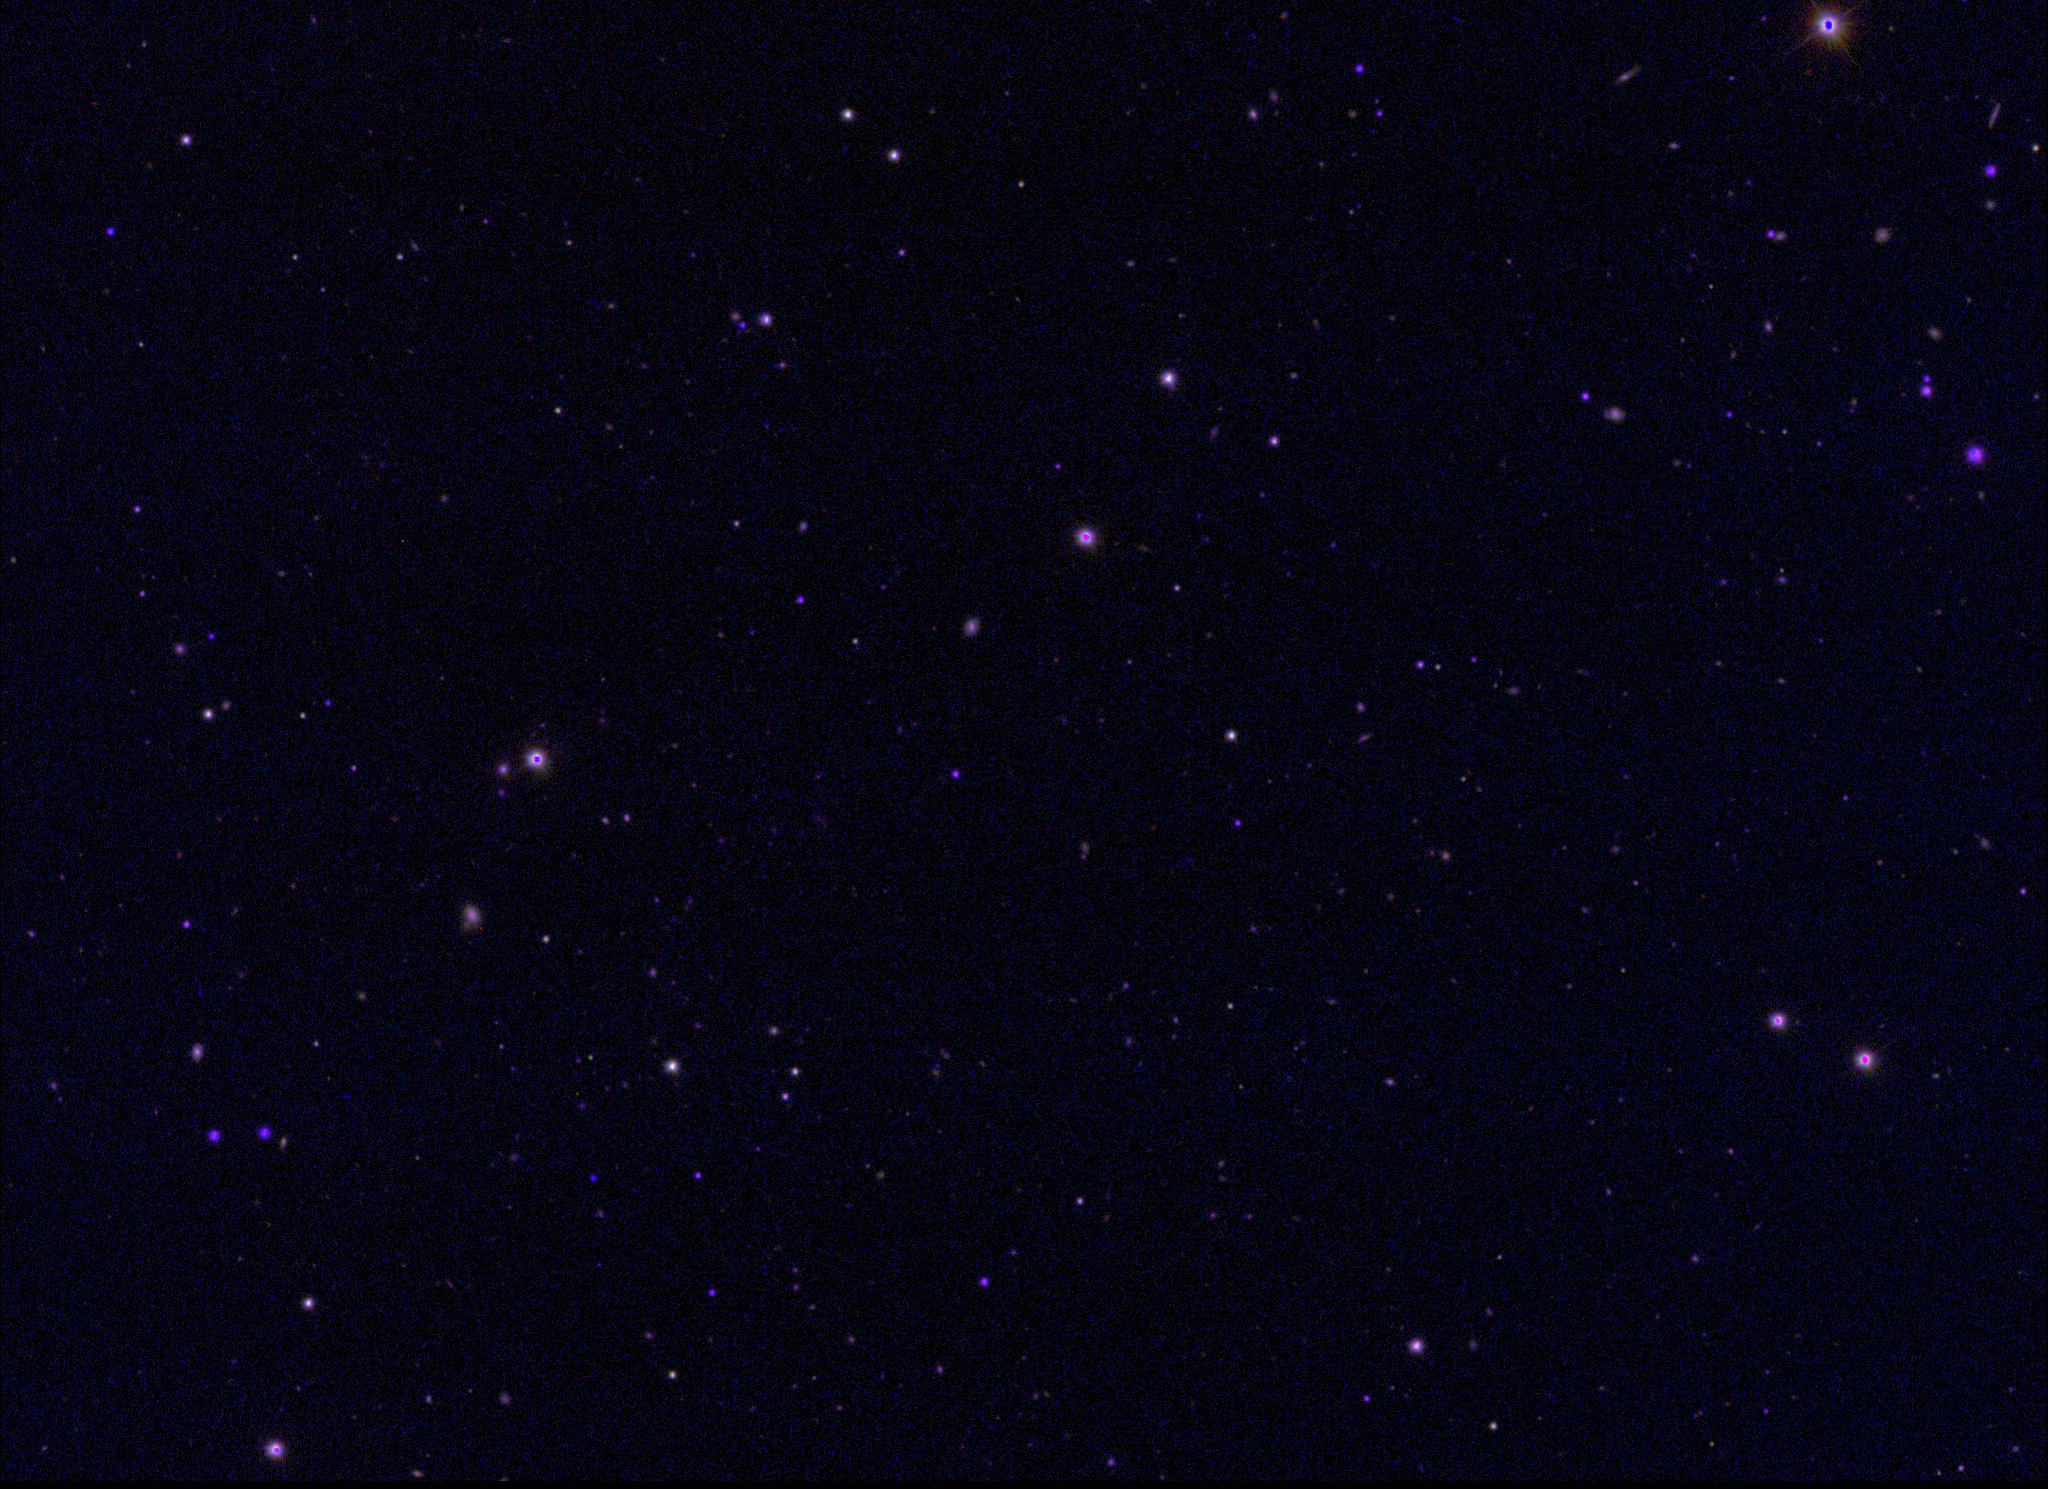L: (587, 1172, 599, 1187)
